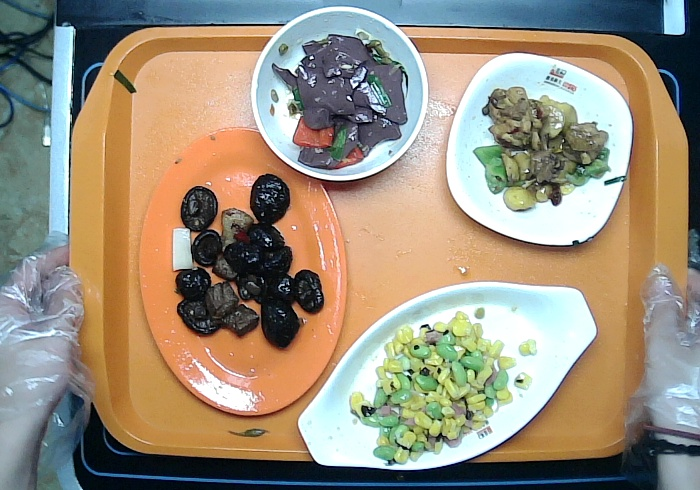NLDX-Bai_Se_Xiao_Fang_Die: (442, 48, 634, 247)
NLDX-Fan_Wan: (247, 3, 430, 183)
NLDX-Ju_Se_Pan: (137, 125, 350, 421)
NLDX-Yu_Pan: (295, 278, 599, 473)
